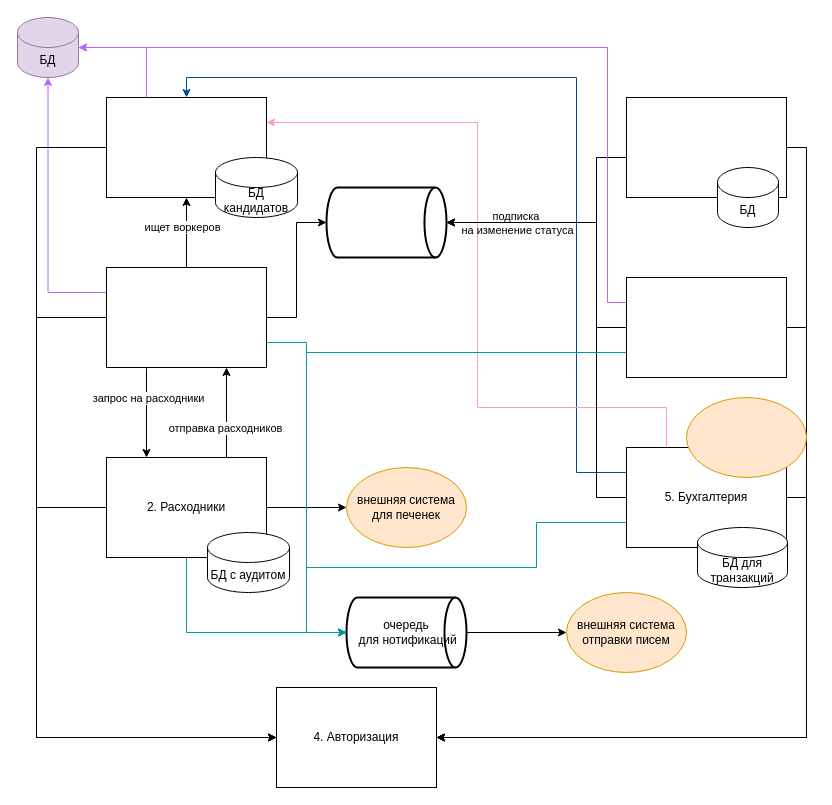
The diagram is 832 pixels wide and 805 high, and some of its shapes have lost their labels. Each missing label, with the box of its shape:
1. Заявки: (106, 266, 266, 368)
3. Менеджмент персонала: (106, 96, 266, 198)
6. Контроль качества: (626, 276, 786, 378)
7. Ставки: (626, 96, 786, 198)
scheduler для списания и зачисления деняк: (686, 396, 806, 478)
очередь для событий: (325, 186, 447, 258)
